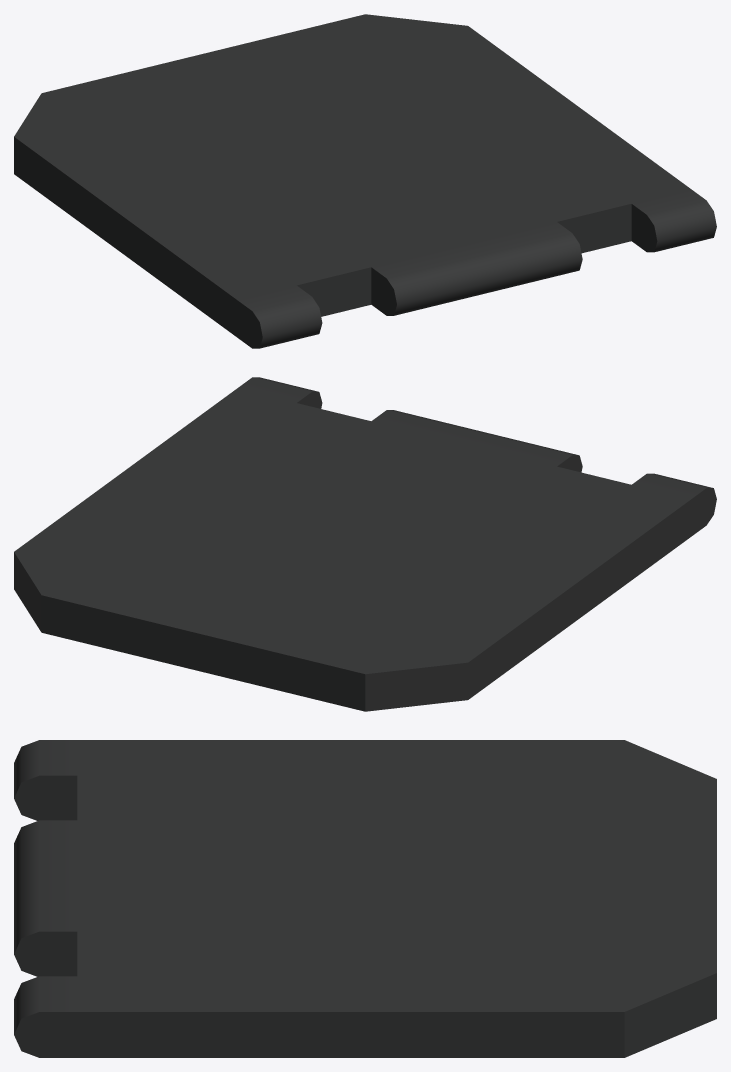
Rendered from Laptop_001_Monitor_002.fbx.
The picture shows the model from 3 angles, top to bottom: view 1: azimuth 30°, elevation 25°; view 2: azimuth 150°, elevation 25°; view 3: azimuth 270°, elevation 25°; orthographic projection. The views are drawn at different scales.
Parts seen in each view (by area): view 1: Laptop_001_Monitor_002; view 2: Laptop_001_Monitor_002; view 3: Laptop_001_Monitor_002.
Part boxes in pixels (x1,y1,x2,y2): Laptop_001_Monitor_002: [14, 14, 716, 348]; Laptop_001_Monitor_002: [14, 377, 716, 711]; Laptop_001_Monitor_002: [14, 740, 716, 1057].
Size of the model in its own units: 21.72 by 23.73 by 1.71.
